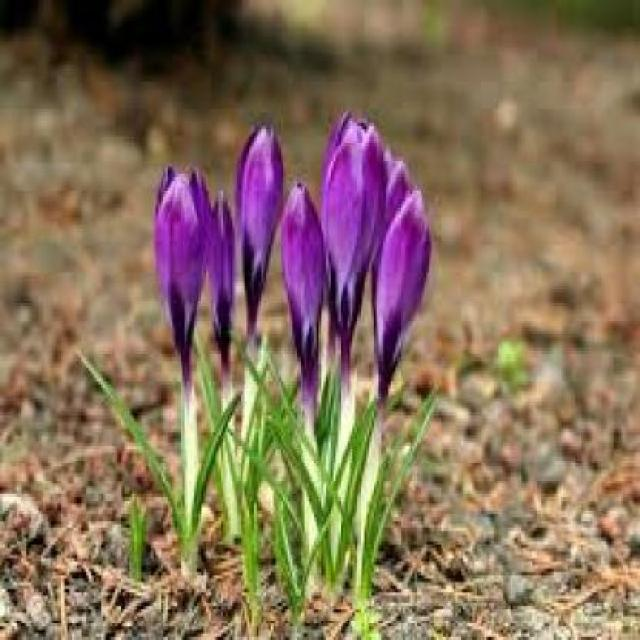Flower: (370, 147, 432, 391), (319, 108, 378, 352), (154, 162, 208, 362), (276, 186, 327, 374), (236, 124, 282, 324), (205, 195, 240, 356)
